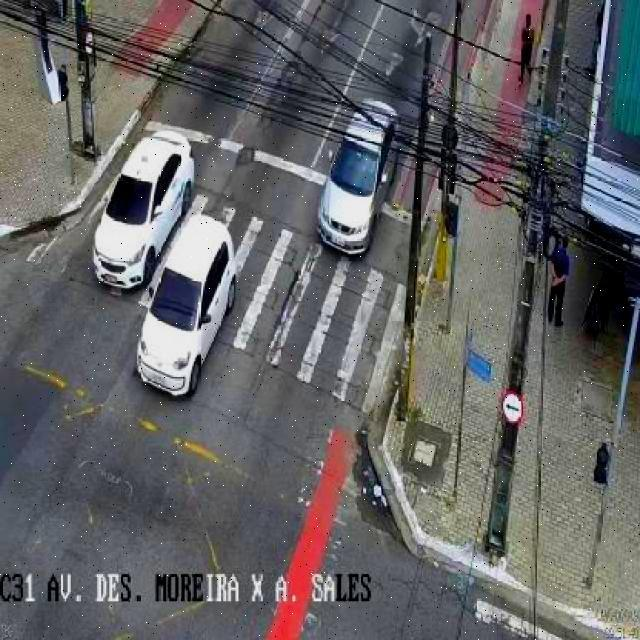Car: (116, 219, 244, 394), (89, 122, 195, 284), (303, 96, 403, 254)
